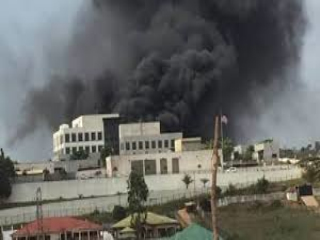smoke: (35, 5, 302, 136)
